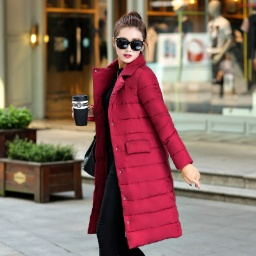face: (110, 13, 149, 65)
